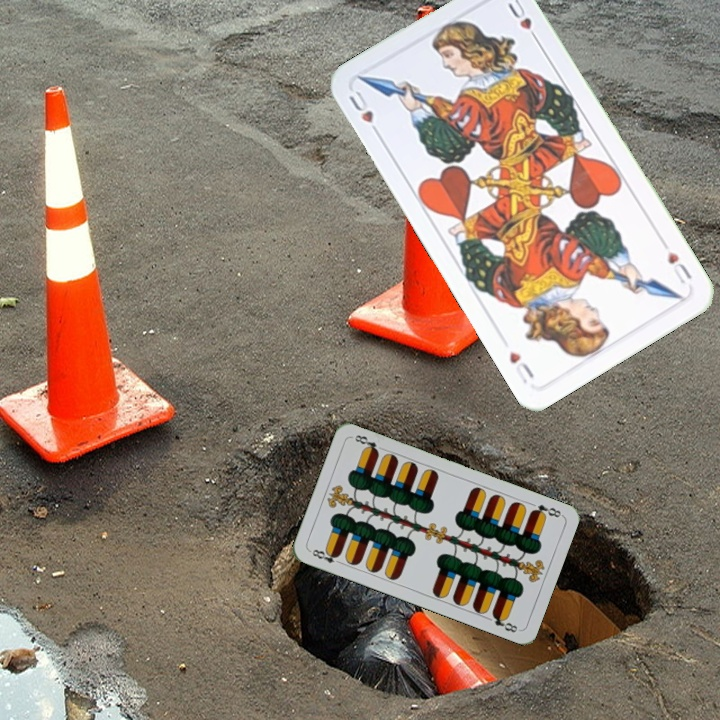E8: (525, 498, 565, 520), (306, 545, 345, 567)
HU: (345, 86, 383, 140), (663, 247, 695, 287)
